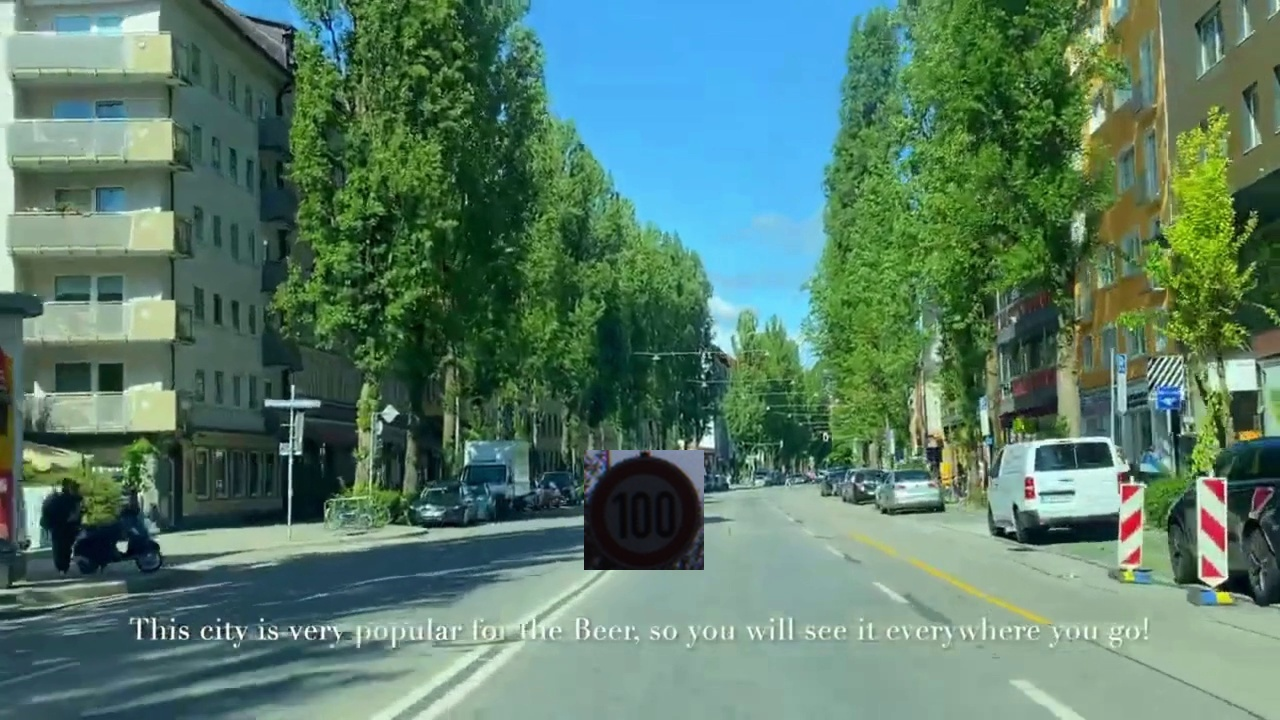Speed 100: (584, 450, 704, 570)
